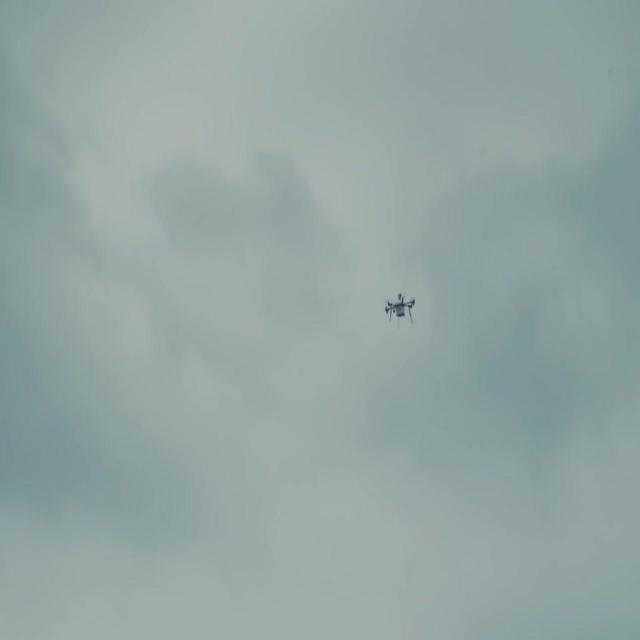drone: (384, 288, 417, 326)
